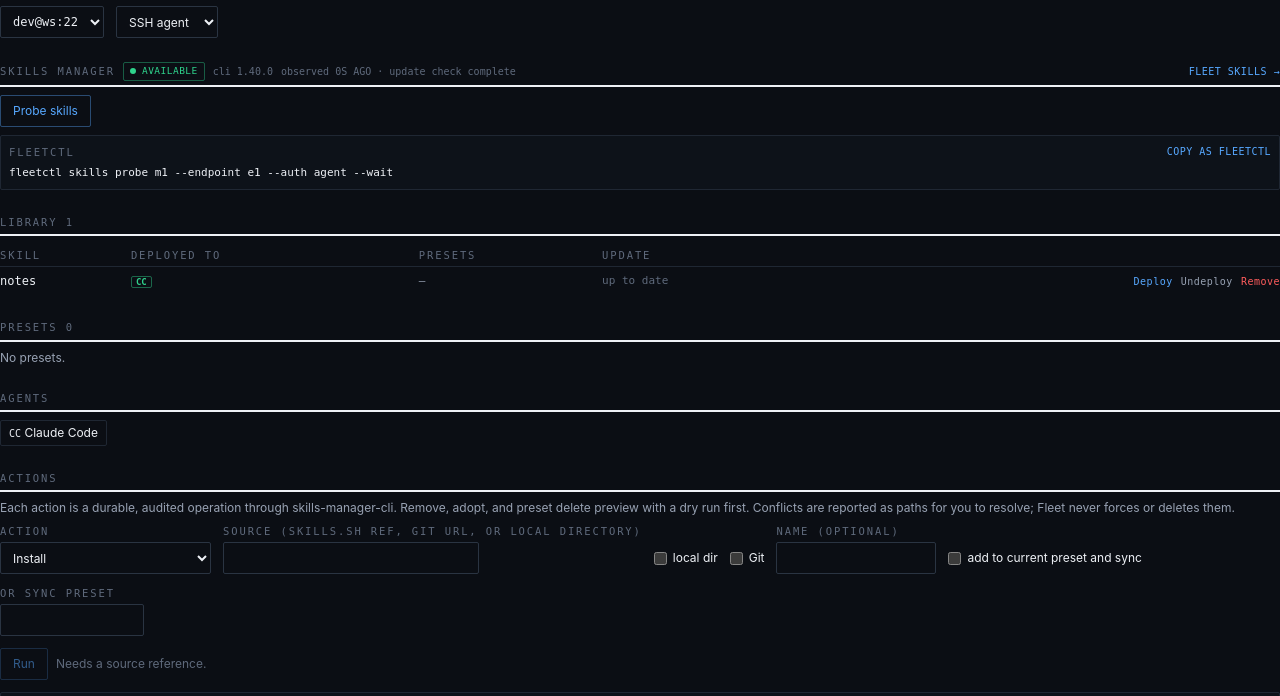
it: machine Skills tab › keeps remove locked when the preview fails
Click the button with test id "remove-notes" at (1260, 281), box [1241,275,1279,288]
(page scrolled)
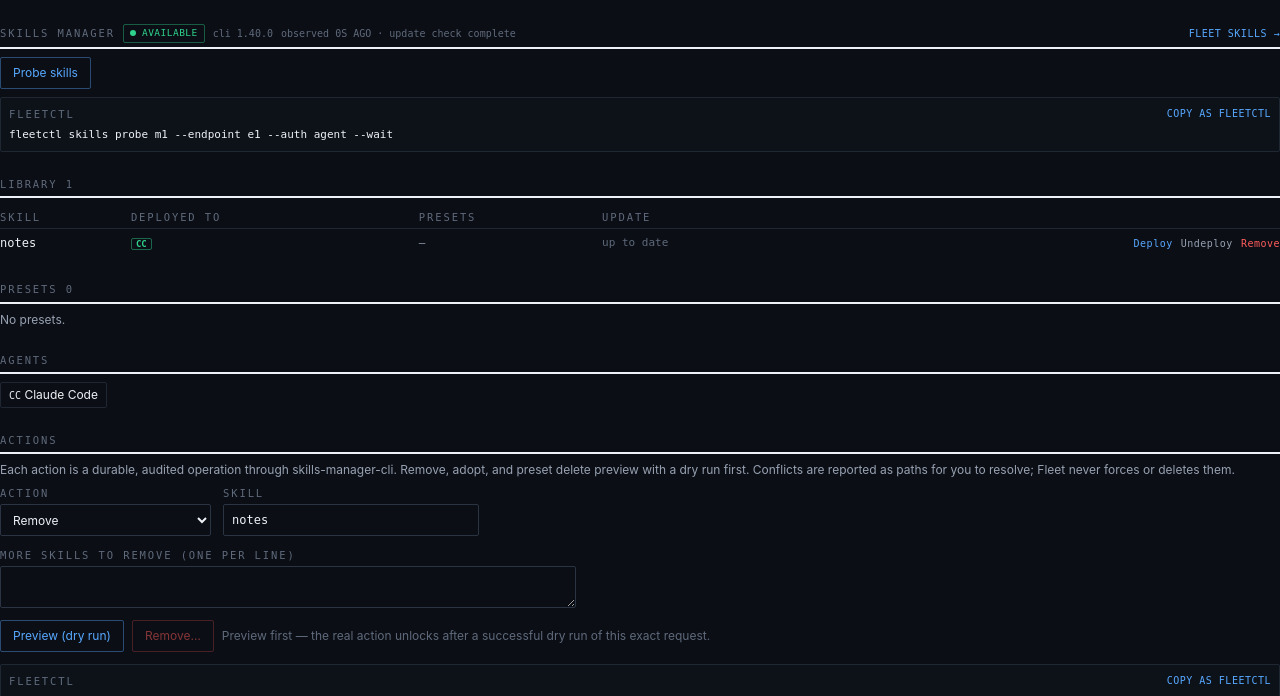
Click the button with test id "skills-preview" at (62, 636), box [0,620,124,652]
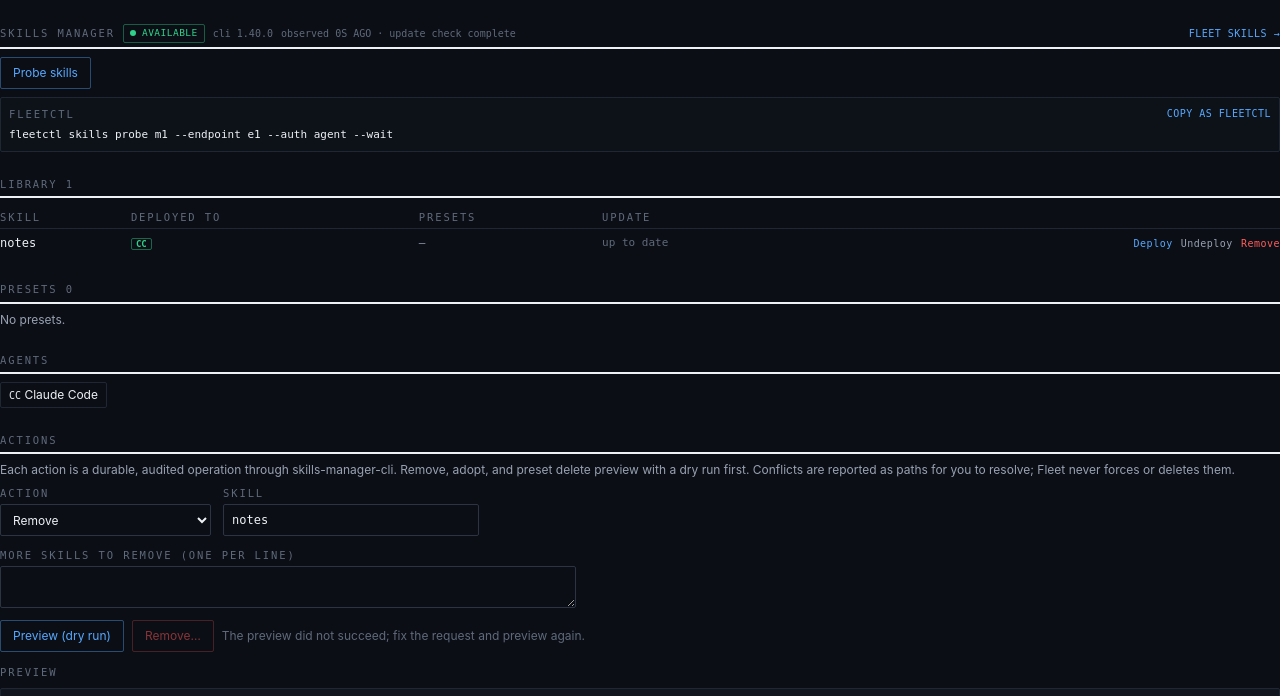
Expected: the button with test id "skills-run" is disabled, [132,620,214,652]
Expected: the text "The preview did not succeed" is shown, [222,628,585,643]
